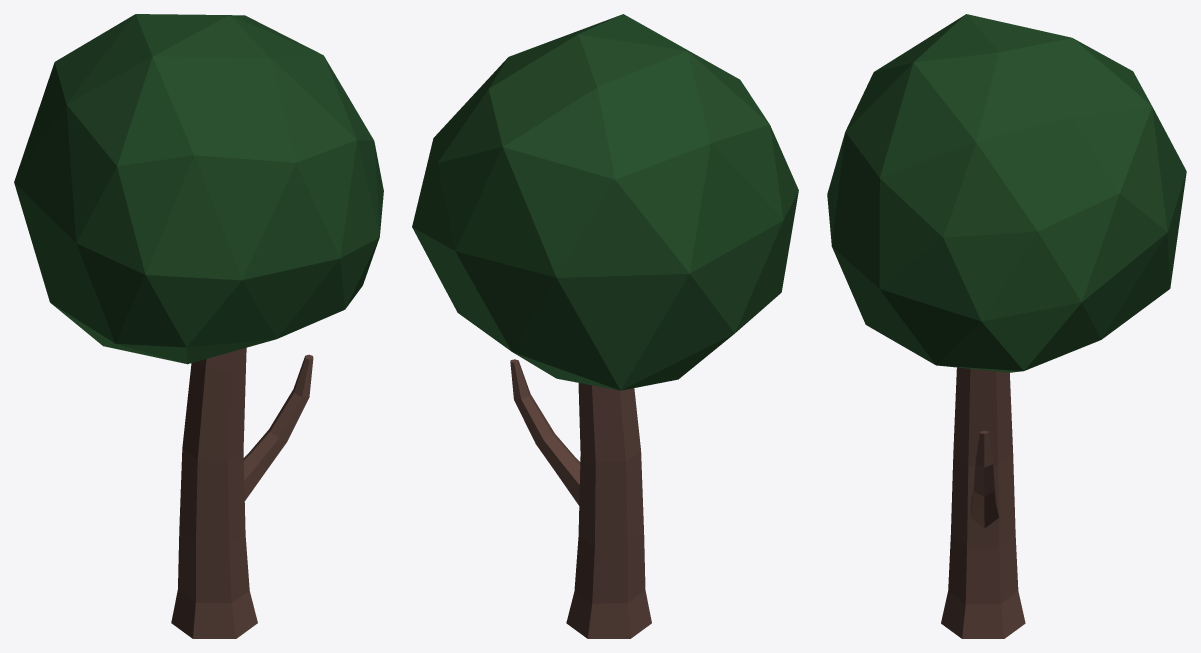
File: Tree 1.fbx
3 renders of one model, left to right at view 1: azimuth 30°, elevation 25°; view 2: azimuth 150°, elevation 25°; view 3: azimuth 270°, elevation 25°, orthographic. The views are drawn at different scales.
Visible parts, largest first — view 1: Tree 1; view 2: Tree 1; view 3: Tree 1.
Boxes of the visible parts, x1,y1,x2,y2 form: Tree 1: [14, 14, 383, 638]; Tree 1: [412, 14, 798, 638]; Tree 1: [827, 14, 1186, 638].
Size of the model in its own units: 3.54 by 6.19 by 3.47.
